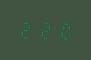two: (36, 19, 52, 40), (18, 19, 34, 39)
zero: (53, 20, 69, 40)
